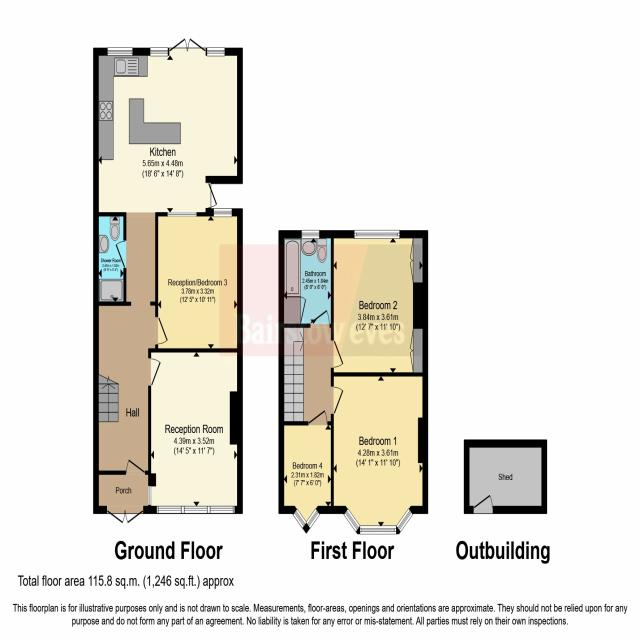DOOR: (148, 357, 162, 387), (155, 316, 169, 345), (114, 239, 127, 270), (310, 308, 330, 328), (331, 339, 344, 369), (331, 386, 344, 415), (307, 408, 328, 425), (125, 458, 146, 475)
ROOM: (93, 37, 243, 217), (330, 372, 428, 535), (148, 348, 243, 514), (331, 230, 428, 377), (155, 208, 243, 353), (278, 409, 334, 535)
WINDOW: (343, 507, 414, 535), (292, 506, 321, 535), (156, 505, 235, 514), (354, 230, 400, 240), (107, 47, 133, 56), (301, 229, 320, 240), (167, 212, 197, 218), (150, 47, 168, 57), (207, 47, 225, 57), (213, 208, 232, 217), (148, 485, 152, 506)
